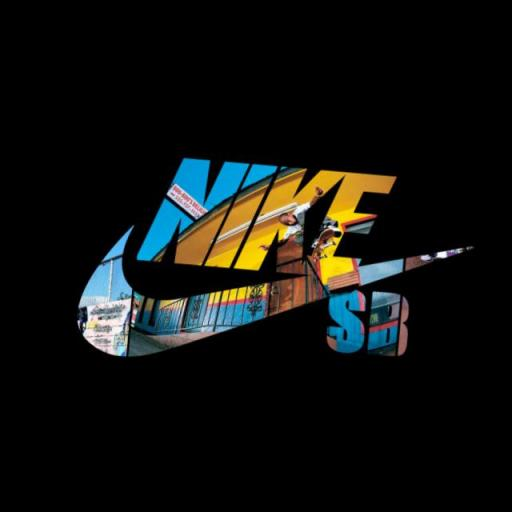Nike: (66, 244, 397, 386), (136, 148, 401, 286)
